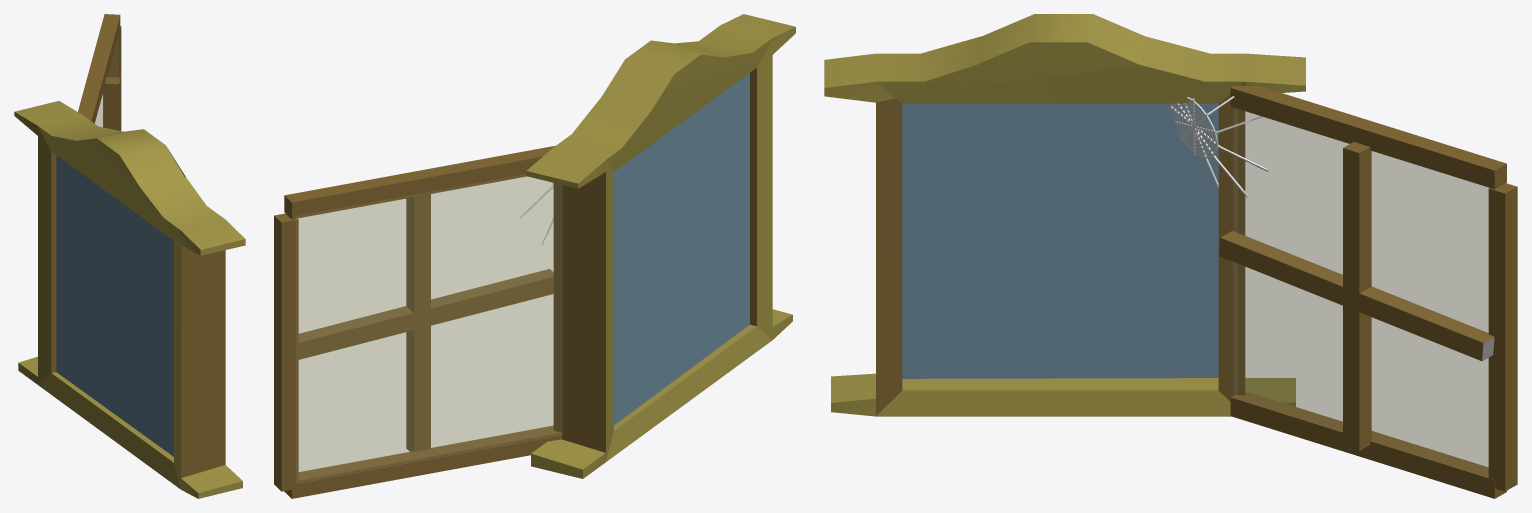
The model's file is FenetrePoubelleUnity.fbx.
3 renders of one model, left to right at view 1: azimuth 30°, elevation 25°; view 2: azimuth 150°, elevation 25°; view 3: azimuth 270°, elevation 25°, orthographic. The views are drawn at different scales.
Parts seen in each view (by area): view 1: pCube1, pCube8, pCube5, pCube2, pCube7, pCube4; view 2: pCube4, pCube1, pCube8, pCube7, pCube6, pCube5, pCube3, pCube2; view 3: pCube8, pCube1, pCube4, pCube7, pCube2, pCube3, pCube5, pCube6.
Part boxes in pixels (<box>): pCube1: <box>14,101,245,498</box>; pCube8: <box>56,155,173,456</box>; pCube5: <box>78,14,120,123</box>; pCube2: <box>103,77,120,130</box>; pCube7: <box>107,26,121,130</box>; pCube4: <box>95,37,118,126</box>; pCube4: <box>295,174,562,483</box>; pCube1: <box>526,14,795,478</box>; pCube8: <box>614,73,749,425</box>; pCube7: <box>274,213,298,491</box>; pCube6: <box>284,425,561,498</box>; pCube5: <box>284,145,555,219</box>; pCube3: <box>298,269,553,359</box>; pCube2: <box>406,194,430,451</box>; pCube8: <box>902,103,1218,378</box>; pCube1: <box>824,14,1305,416</box>; pCube4: <box>1233,108,1490,476</box>; pCube7: <box>1488,183,1517,491</box>; pCube2: <box>1343,142,1371,450</box>; pCube3: <box>1219,231,1494,360</box>; pCube5: <box>1230,85,1506,189</box>; pCube6: <box>1230,391,1506,498</box>.
Bounding box in the file's own units: 13.59 × 19.96 × 33.49.
